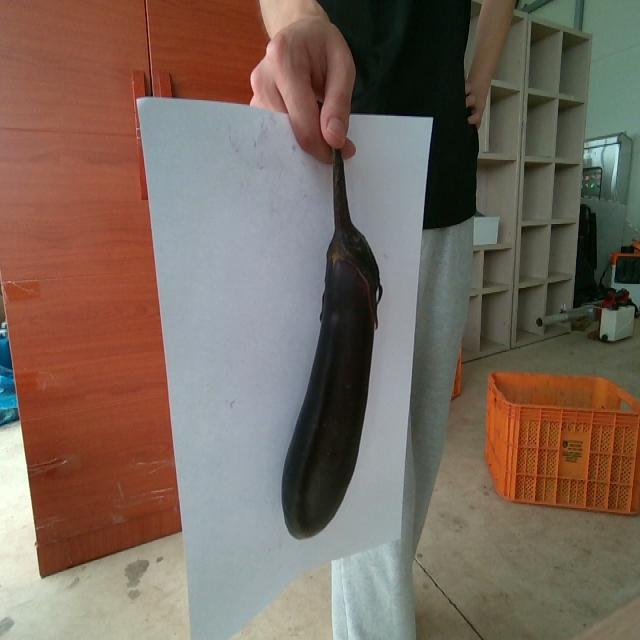Egg plant: (282, 151, 381, 537)
